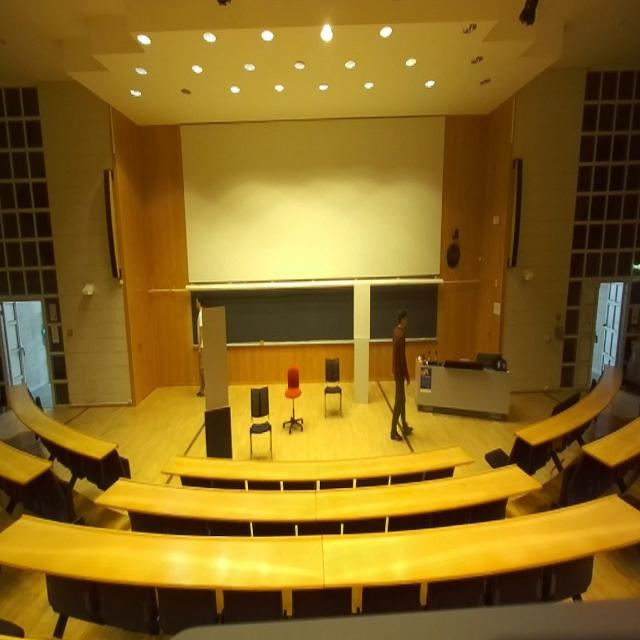person: (390, 307, 412, 441), (196, 296, 204, 396)
